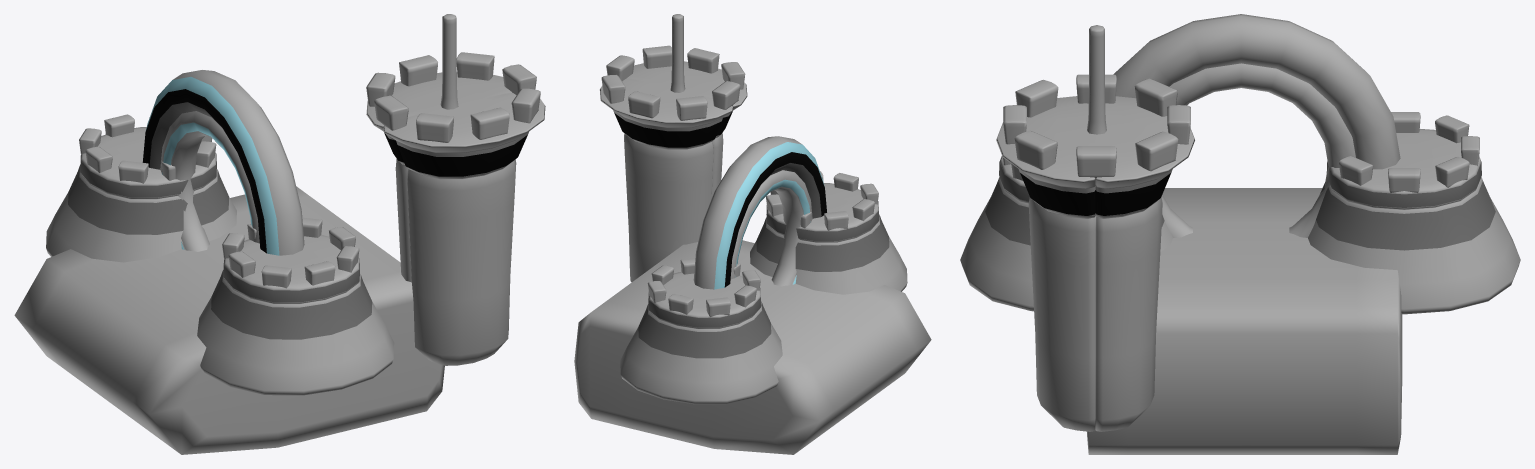
The model's file is CastleEntranceBig.fbx.
3 renders of one model, left to right at view 1: azimuth 30°, elevation 25°; view 2: azimuth 150°, elevation 25°; view 3: azimuth 270°, elevation 25°, orthographic. The views are drawn at different scales.
Parts seen in each view (by area): view 1: pCube147, polySurface30, polySurface37, polySurface39, pTorus4, polySurface32, pTorus2, polySurface38, polySurface40, polySurface41; view 2: pCube147, polySurface30, polySurface39, polySurface37, pTorus4, polySurface32, pTorus2, polySurface40, polySurface38, polySurface41; view 3: pCube147, polySurface30, polySurface39, pTorus4, polySurface32, polySurface37, pTorus2, polySurface40, polySurface41.
Part boxes in pixels (x1,y1,x2,y2): pCube147: (14,186,444,454); polySurface30: (366,72,545,365); polySurface37: (197,235,394,395); polySurface39: (46,127,236,262); pTorus4: (142,70,304,255); polySurface32: (366,52,540,142); pTorus2: (160,111,259,251); polySurface38: (222,217,359,288); polySurface40: (79,114,216,183); polySurface41: (440,14,458,109); pCube147: (574,240,931,454); polySurface30: (599,61,747,282); polySurface39: (620,271,782,404); polySurface37: (750,183,907,294); pTorus4: (693,136,826,289); polySurface32: (601,45,745,120); pTorus2: (730,170,812,286); polySurface40: (647,258,760,316); polySurface38: (766,171,878,230); polySurface41: (670,14,685,92); pCube147: (1087,188,1402,454); polySurface30: (996,96,1194,431); polySurface39: (1308,129,1520,314); pTorus4: (1113,14,1400,169); polySurface32: (1003,74,1190,177); polySurface37: (960,156,1172,311); pTorus2: (1161,63,1355,237); polySurface40: (1339,112,1479,192); polySurface41: (1087,25,1106,134).
Bounding box in the file's own units: 9.31 × 8.91 × 10.22.
